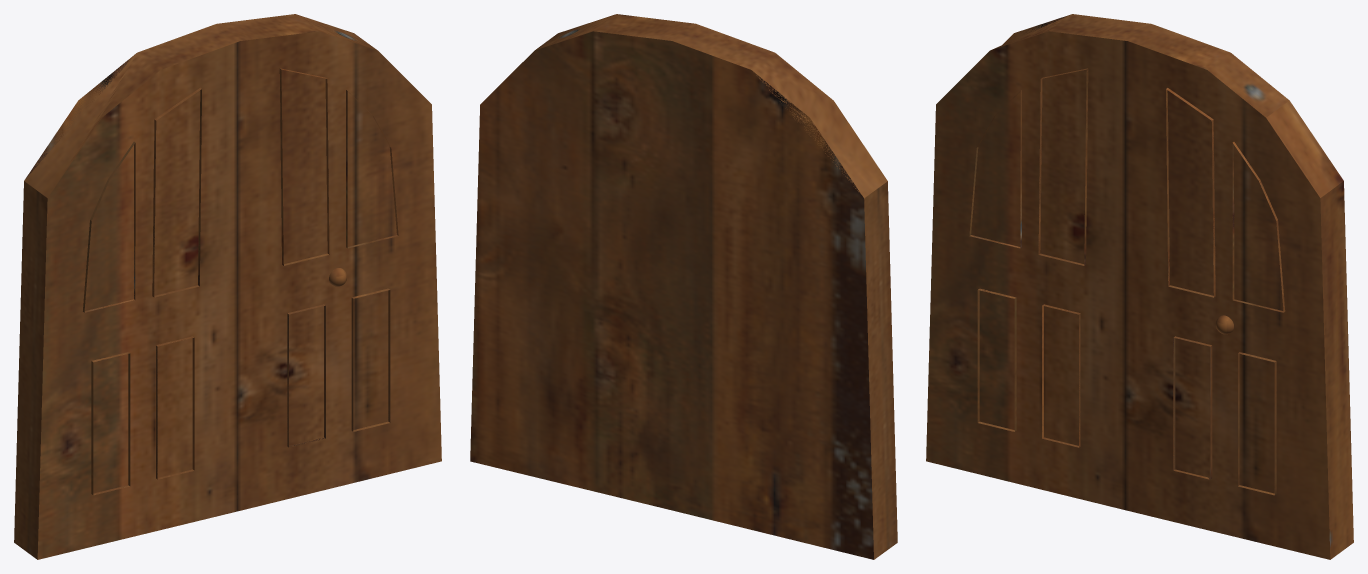
Rendered from Door.fbx.
3 renders of one model, left to right at view 1: azimuth 30°, elevation 25°; view 2: azimuth 150°, elevation 25°; view 3: azimuth 330°, elevation 25°, orthographic.
Parts seen in each view (by area): view 1: Door2; view 2: Door2; view 3: Door2.
Boxes of the visible parts, bbox=[...] form: Door2: bbox=[14, 14, 441, 559]; Door2: bbox=[470, 14, 897, 559]; Door2: bbox=[926, 14, 1353, 559].
Size of the model in its own units: 1.61 by 1.79 by 0.1975.
Materials: 1 (1 with a texture image).
